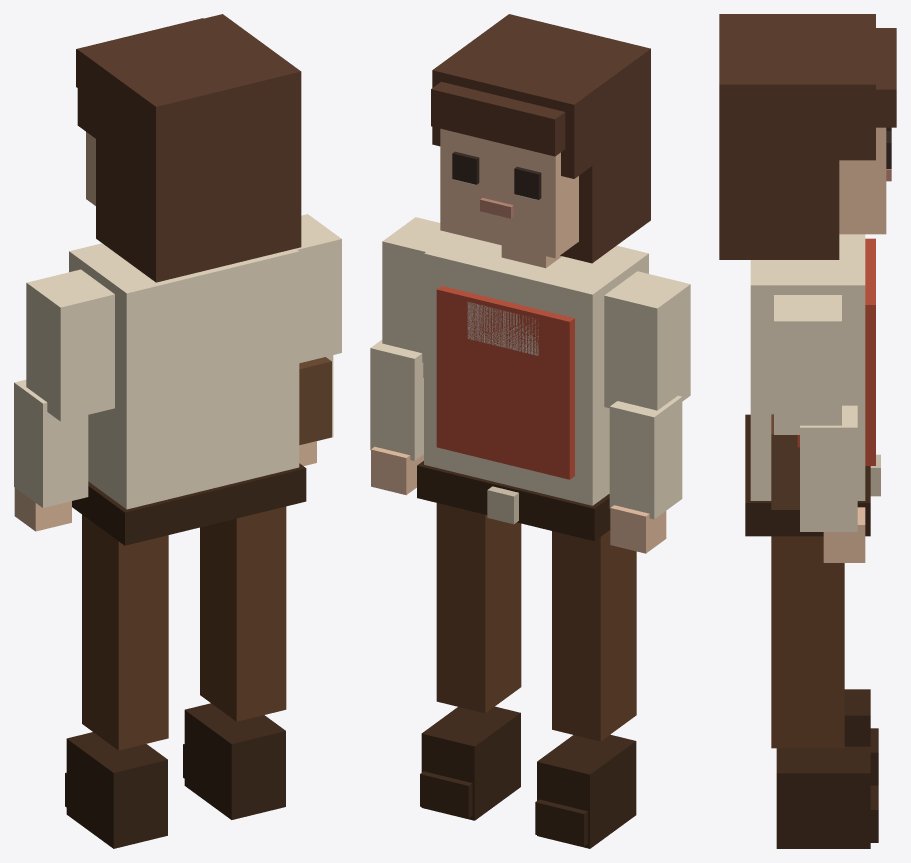
File: vn_player.glb
3 views of the same model, side by side, from view 1: azimuth 30°, elevation 25°; view 2: azimuth 150°, elevation 25°; view 3: azimuth 270°, elevation 25° (orthographic). The views are drawn at different scales.
Parts seen in each view (by area): view 1: PlayerBody; view 2: PlayerBody; view 3: PlayerBody.
Boxes of the visible parts, bbox=[...] form: PlayerBody: bbox=[14, 14, 341, 848]; PlayerBody: bbox=[370, 14, 690, 848]; PlayerBody: bbox=[719, 14, 896, 848].
Size of the model in its own units: 0.64 by 1.6 by 0.34.
